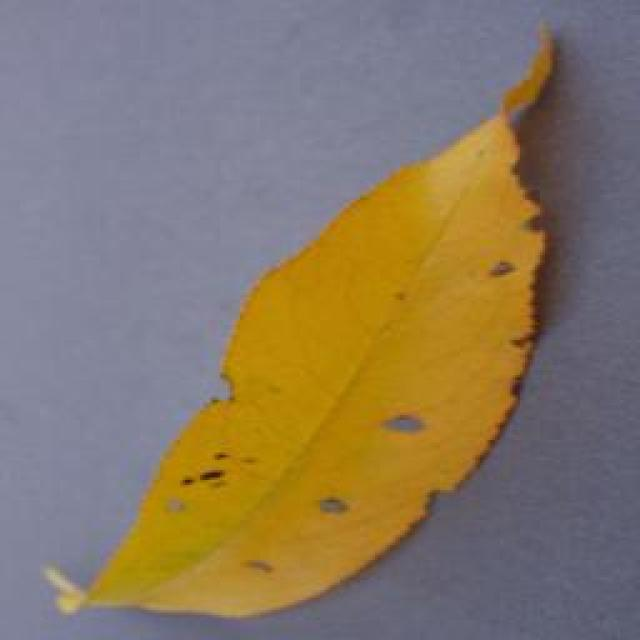Peach_Bacterial_Spot: (275, 275, 530, 640)
